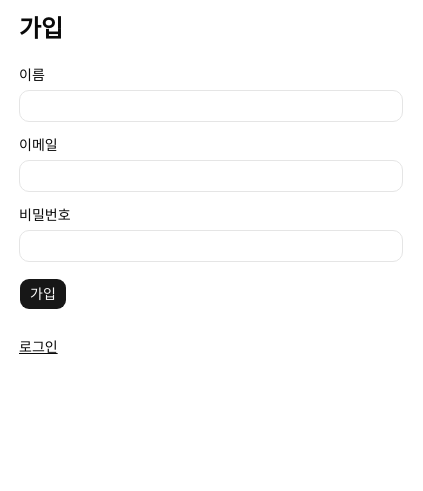
Test case: 가입 오류를 세 입력칸에 연결하고 비밀번호를 복원하지 않는다
Type "User" into the field labelled "이름".
click(211, 106); type("User")  # box [19,90,403,122]
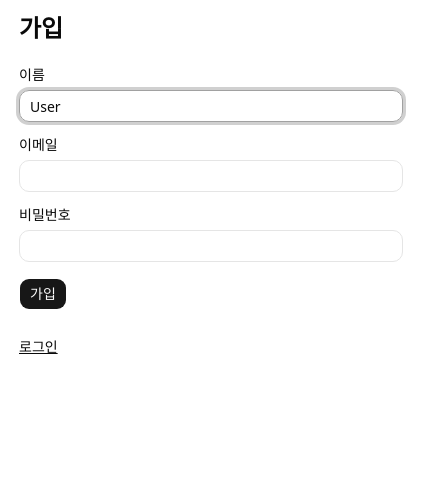
Type "user@example.com" into the field labelled "이메일".
click(211, 176); type("user@example.com")  # box [19,160,403,192]
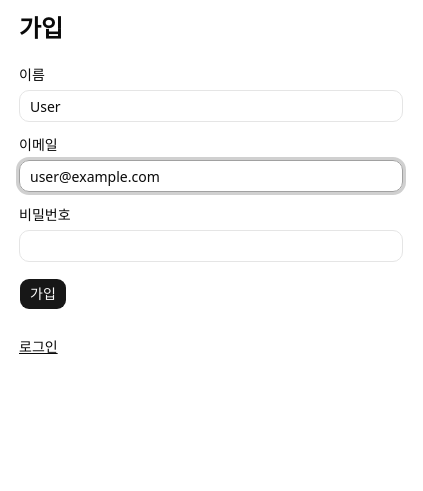
Type "sample-password" into the password field labelled "비밀번호".
click(211, 246); type("sample-password")  # box [19,230,403,262]
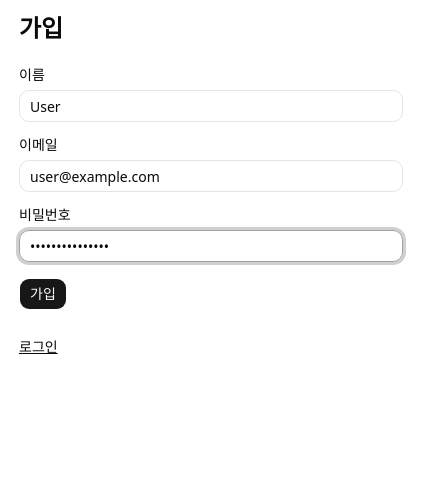
Click the button "가입".
click(43, 294)  # box [19,278,67,310]
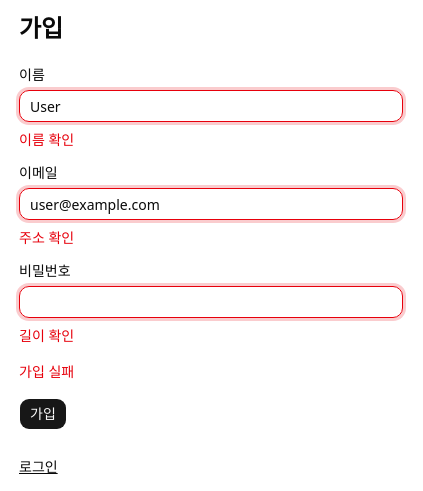
expect the message reads "가입 실패": met, box [19,362,74,381]
expect the password field labelled "비밀번호" is empty: met, box [19,286,403,318]
